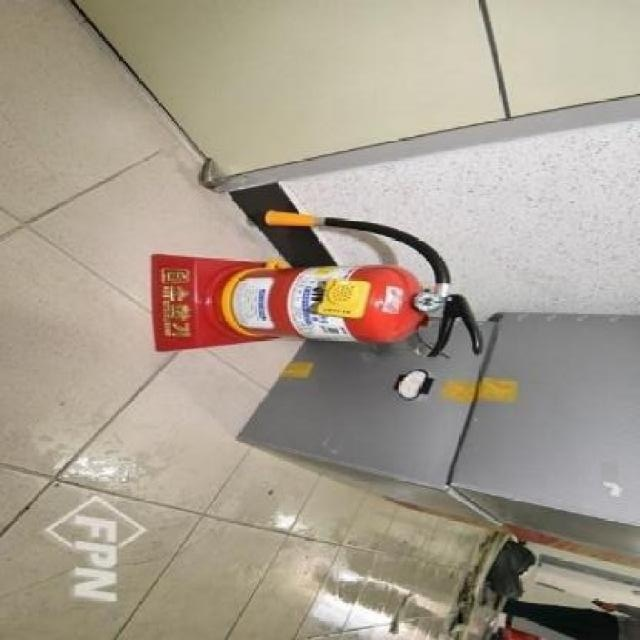fire extinguisher: (213, 209, 485, 360)
